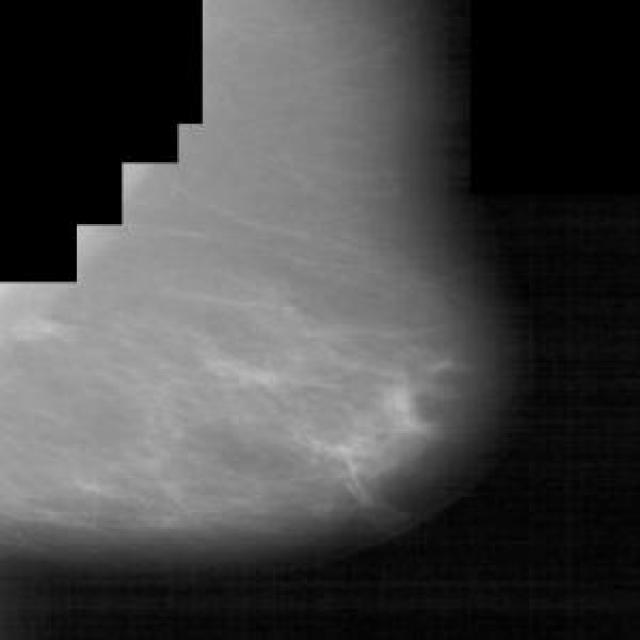tumor: (312, 354, 458, 499)
